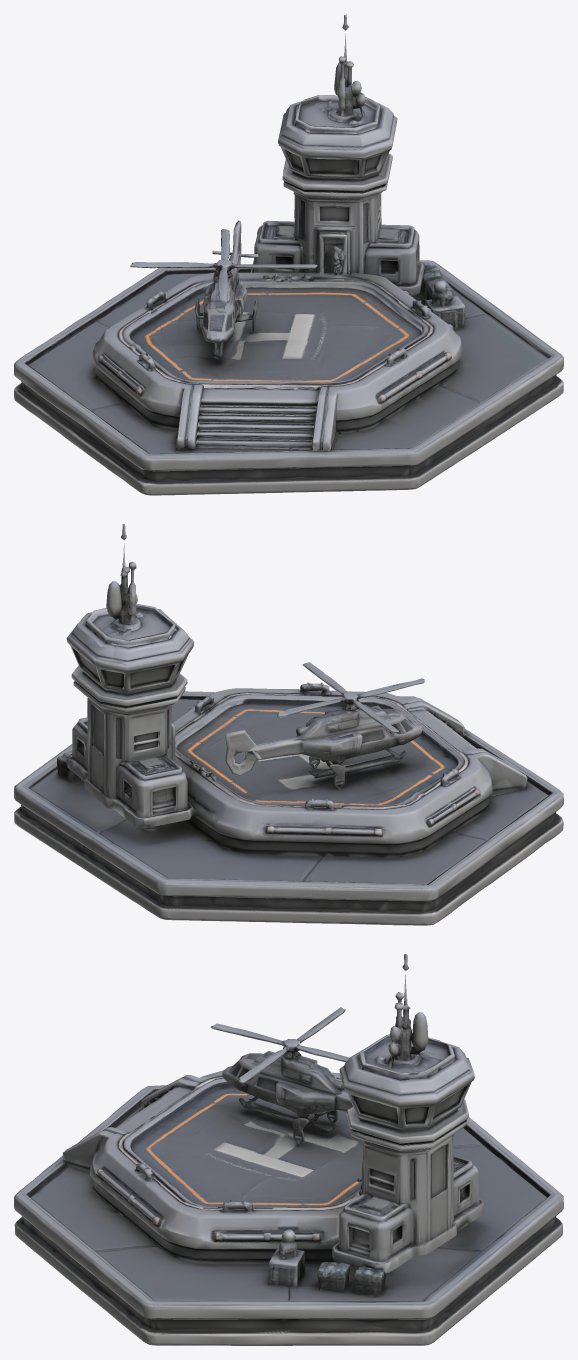
File: Decorativo2.glb
The picture shows the model from 3 angles, top to bottom: view 1: azimuth 30°, elevation 25°; view 2: azimuth 150°, elevation 25°; view 3: azimuth 270°, elevation 25°; orthographic projection. The views are drawn at different scales.
Visible parts, largest first — view 1: tripo_node_d0d7595e-0930-4968-9ed0-23c7a3dcd065; view 2: tripo_node_d0d7595e-0930-4968-9ed0-23c7a3dcd065; view 3: tripo_node_d0d7595e-0930-4968-9ed0-23c7a3dcd065.
Boxes of the visible parts, x1,y1,x2,y2 form: tripo_node_d0d7595e-0930-4968-9ed0-23c7a3dcd065: [14, 14, 563, 495]; tripo_node_d0d7595e-0930-4968-9ed0-23c7a3dcd065: [14, 524, 563, 925]; tripo_node_d0d7595e-0930-4968-9ed0-23c7a3dcd065: [14, 954, 563, 1345].
Bounding box in the file's own units: 0.9388 × 0.6685 × 0.9795.
1 material, 1 textured.
